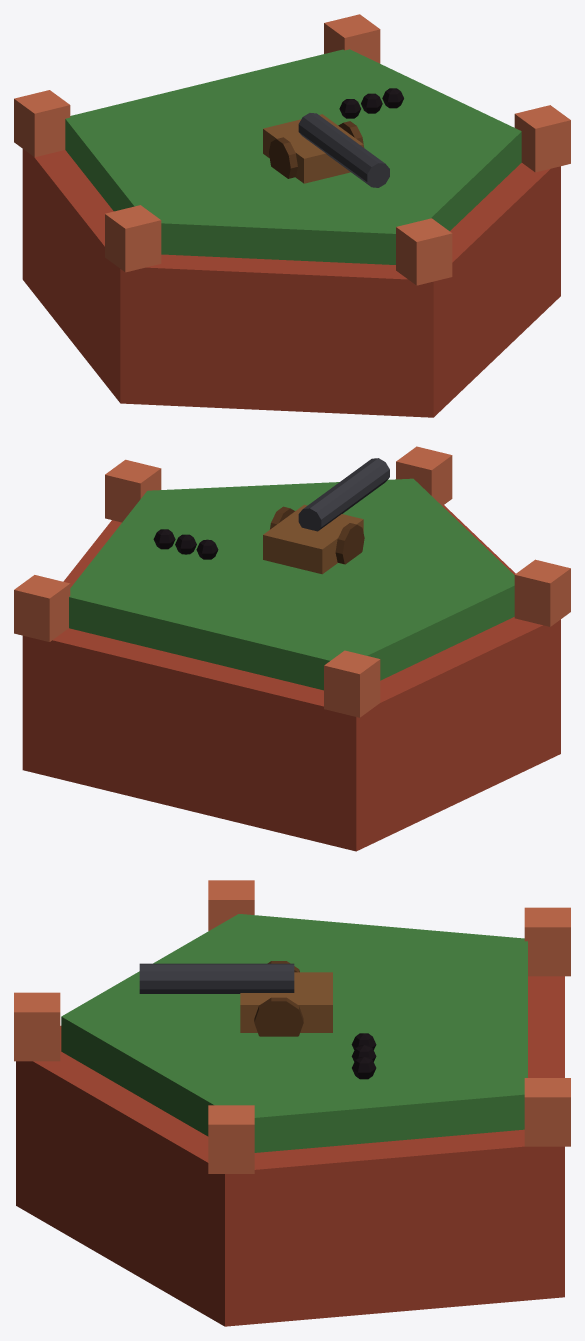
File: bastion.glb
3 renders of one model, top to bottom at view 1: azimuth 30°, elevation 25°; view 2: azimuth 150°, elevation 25°; view 3: azimuth 270°, elevation 25°, orthographic. The views are drawn at different scales.
Parts seen in each view (by area): view 1: bastion; view 2: bastion; view 3: bastion.
Boxes of the visible parts, left/top/right/bottom form: bastion: left=14, top=14, right=570, bottom=417; bastion: left=14, top=446, right=570, bottom=851; bastion: left=14, top=880, right=570, bottom=1326.
Size of the model in its own units: 3.74 by 1.72 by 3.6.
